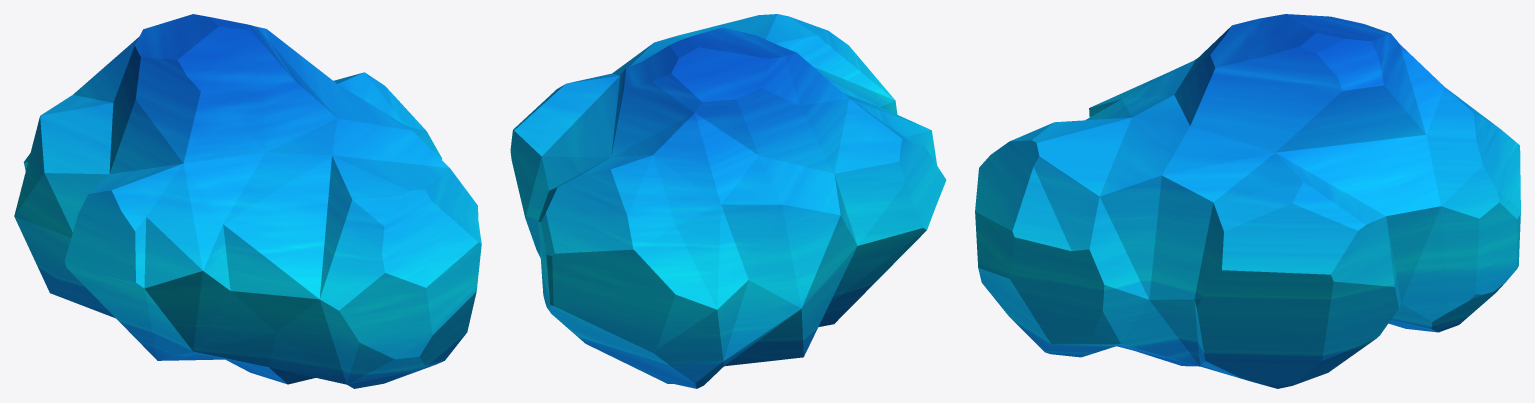
File: Crystal8.obj
The picture shows the model from 3 angles, left to right: view 1: azimuth 30°, elevation 25°; view 2: azimuth 150°, elevation 25°; view 3: azimuth 270°, elevation 25°; orthographic projection. The views are drawn at different scales.
Parts seen in each view (by area): view 1: obj1; view 2: obj1; view 3: obj1.
Boxes of the visible parts, x1,y1,x2,y2 form: obj1: [14, 14, 481, 388]; obj1: [510, 14, 946, 388]; obj1: [975, 14, 1520, 388].
Size of the model in its own units: 3.98 by 3.07 by 4.87.
Materials: 1 (1 with a texture image).
